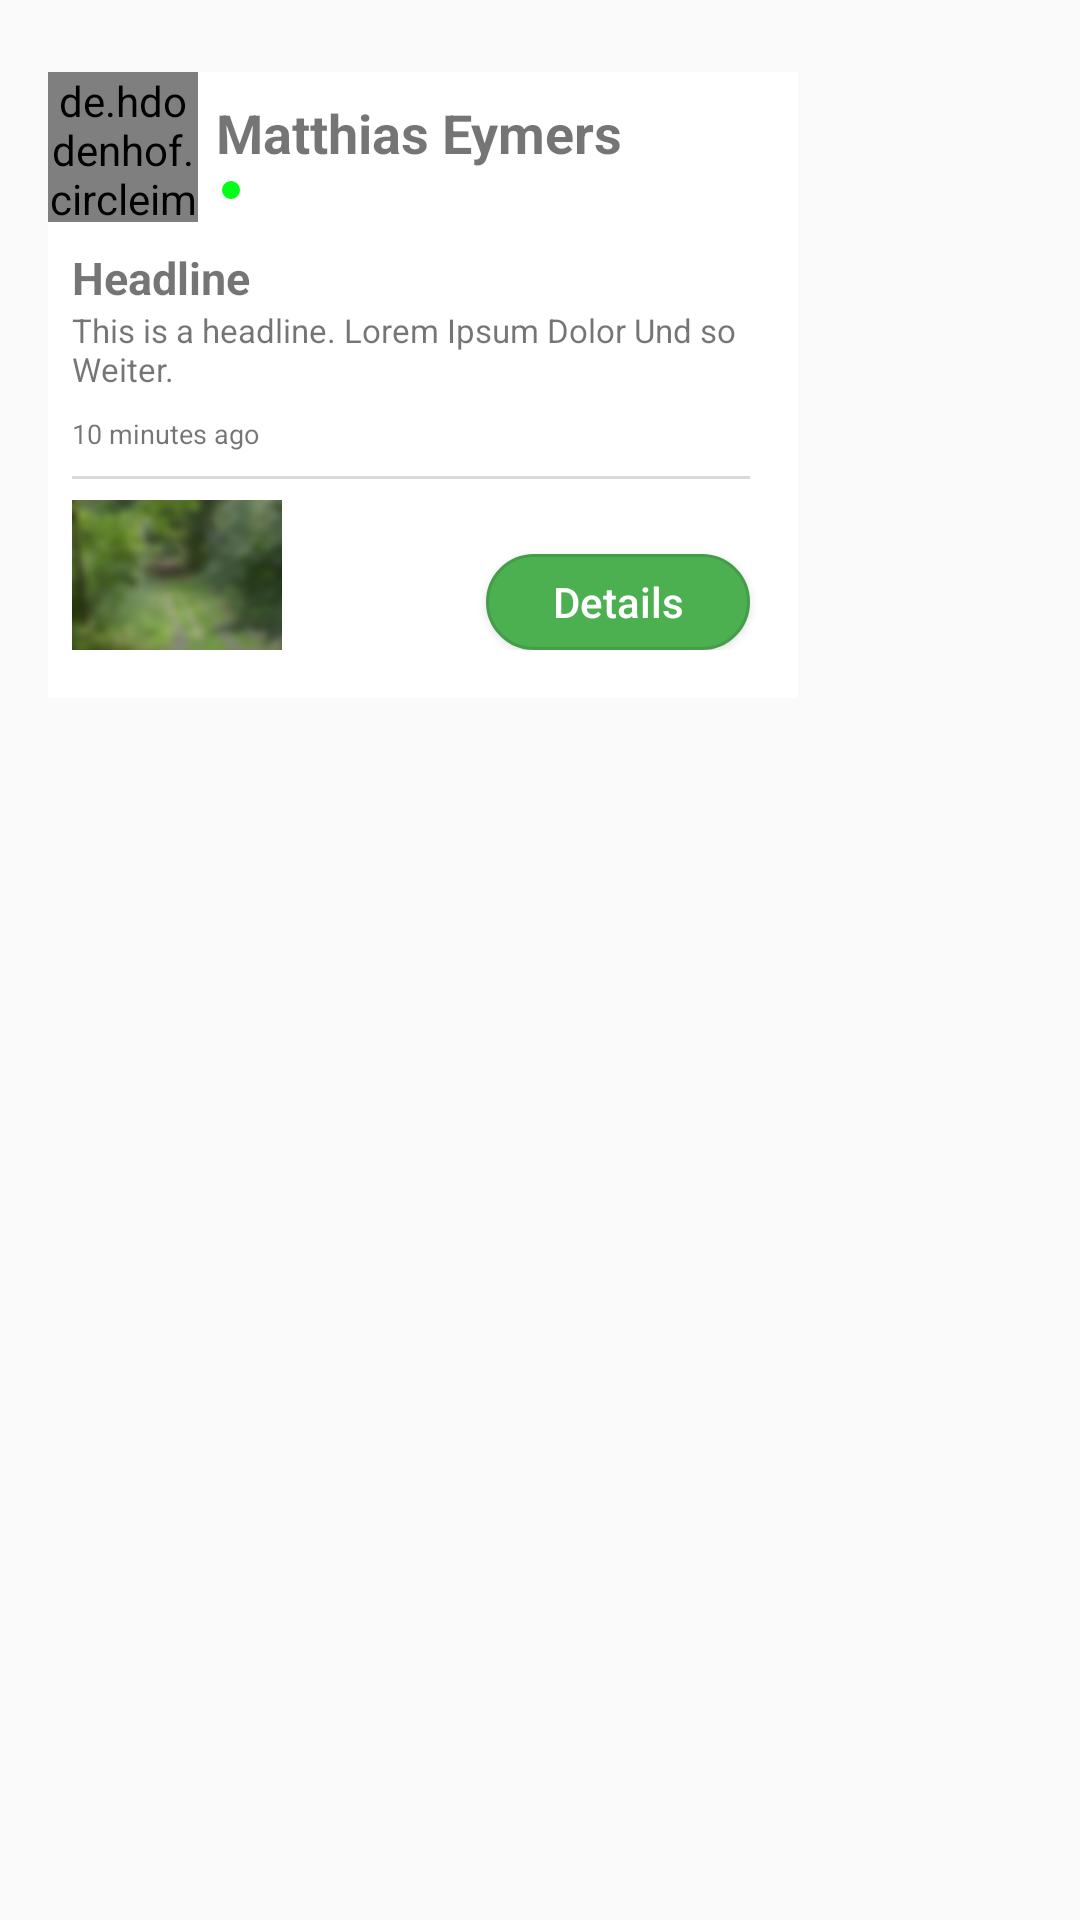

Where icons sit on this 1080w x 1920h app screen, as [x1, y1, x2, y2]:
waldweg: [72, 500, 282, 650]
